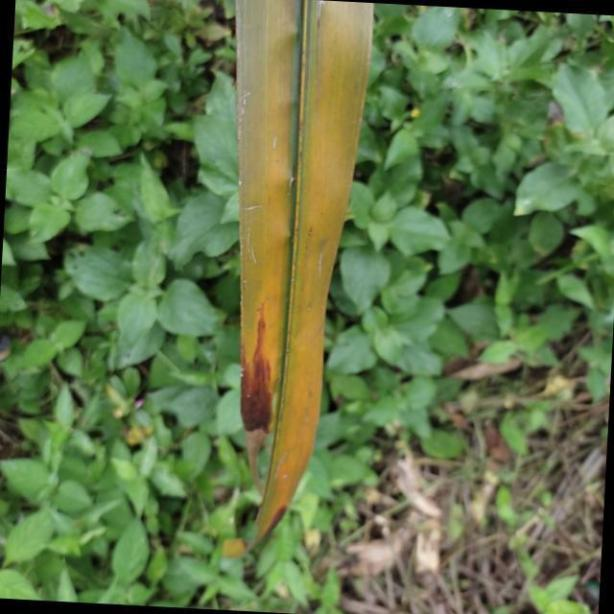Megnesium: (224, 0, 376, 560)
